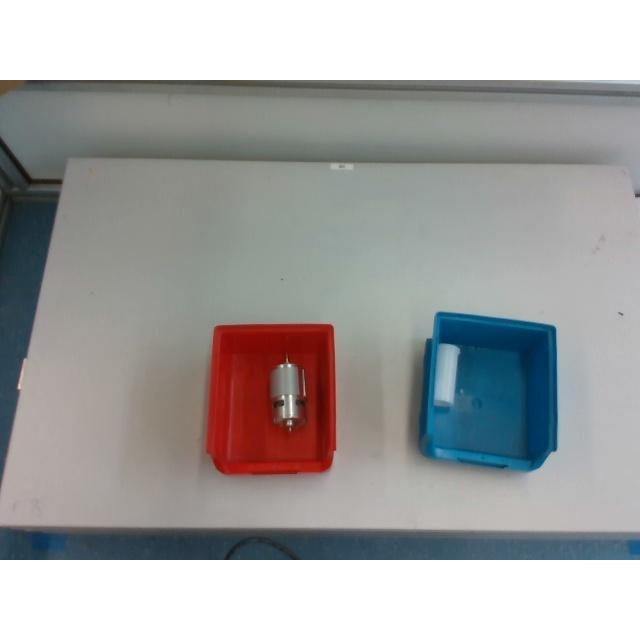Motor2: (270, 356, 306, 432)
Spacer: (433, 342, 459, 406)
container_box_blue: (420, 312, 556, 470)
container_box_red: (206, 323, 334, 472)
